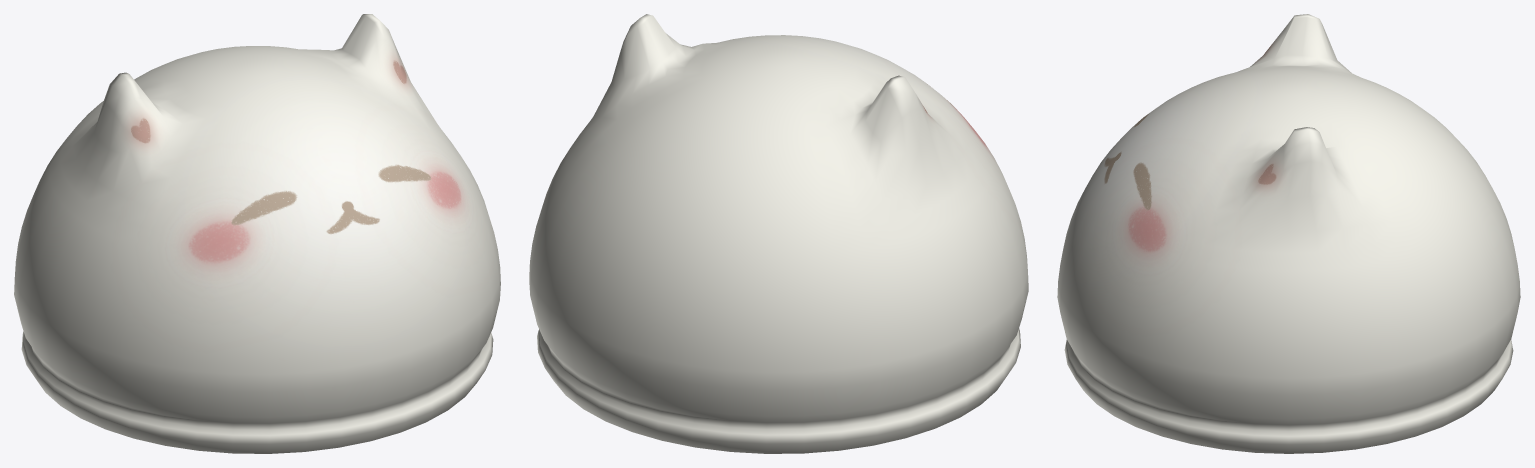
Rendered from Itim_fbx.fbx.
3 views of the same model, side by side, from view 1: azimuth 30°, elevation 25°; view 2: azimuth 150°, elevation 25°; view 3: azimuth 270°, elevation 25° (orthographic). The views are drawn at different scales.
Visible parts, largest first — view 1: pSphere1; view 2: pSphere1; view 3: pSphere1.
Boxes of the visible parts, bbox=[...] form: pSphere1: bbox=[14, 14, 500, 453]; pSphere1: bbox=[529, 14, 1028, 453]; pSphere1: bbox=[1057, 14, 1520, 453].
Bounding box in the file's own units: 2 × 1.39 × 2.
Materials: 1 (1 with a texture image).
